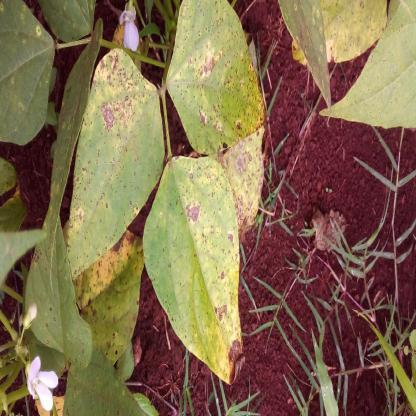Beans_Rust: (140, 157, 248, 388), (167, 0, 269, 230), (65, 50, 164, 272), (77, 220, 141, 372), (1, 0, 53, 146), (296, 2, 389, 63)
